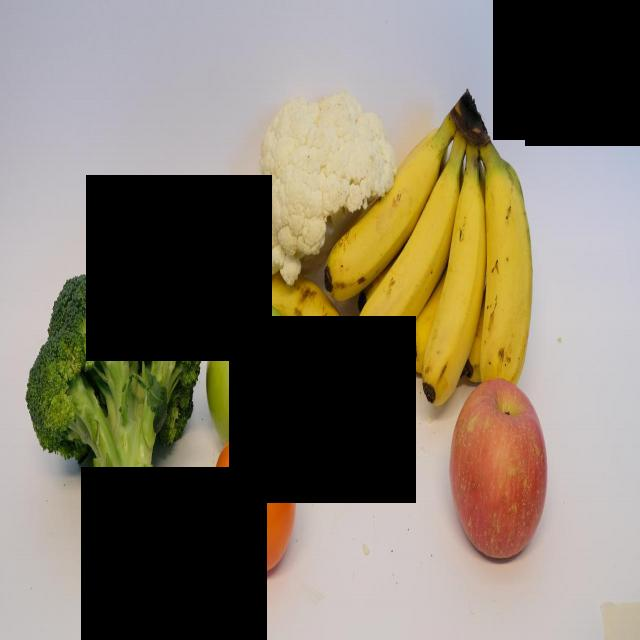apple: (448, 366, 550, 570), (206, 286, 308, 450)
banana: (235, 246, 372, 467), (355, 157, 462, 367), (422, 160, 492, 423), (333, 130, 442, 290), (481, 140, 532, 400)
broccoli: (23, 243, 202, 571)
cauliflower: (248, 88, 399, 282)
tomato: (210, 417, 297, 584)
